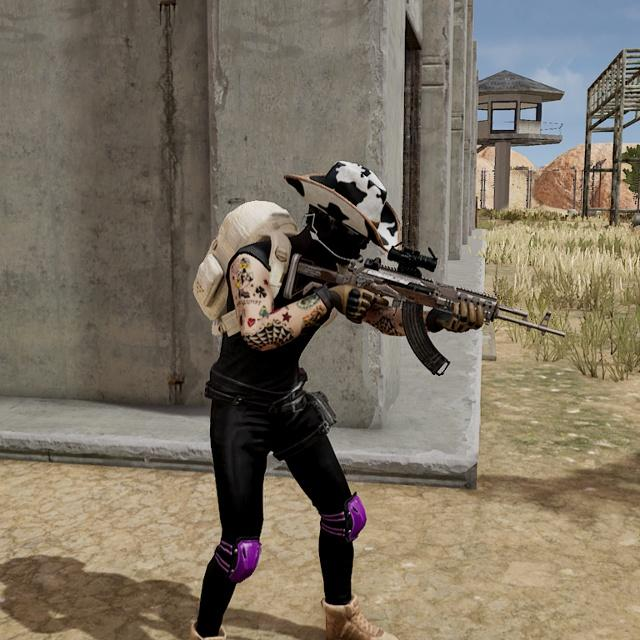head: (290, 155, 393, 285)
people: (184, 150, 412, 640)
